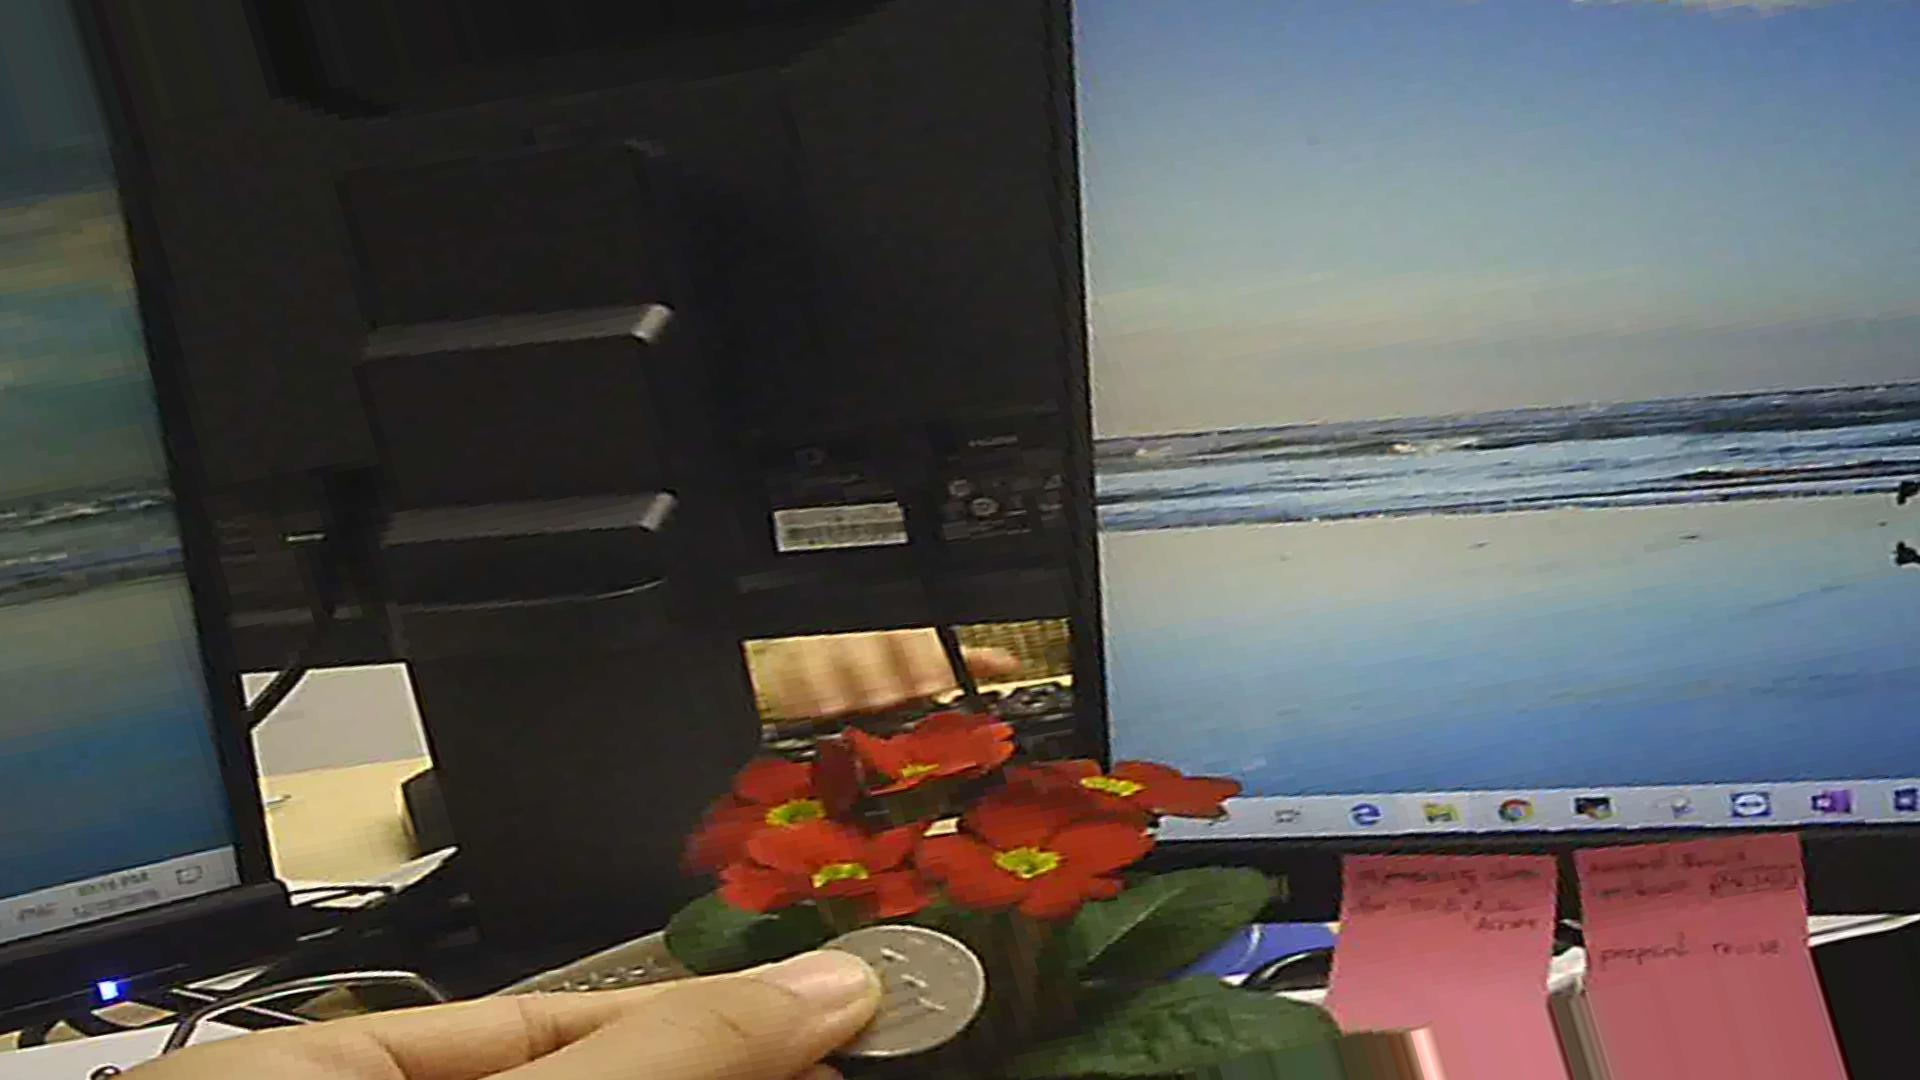100 Yen: (787, 922, 998, 1060)
